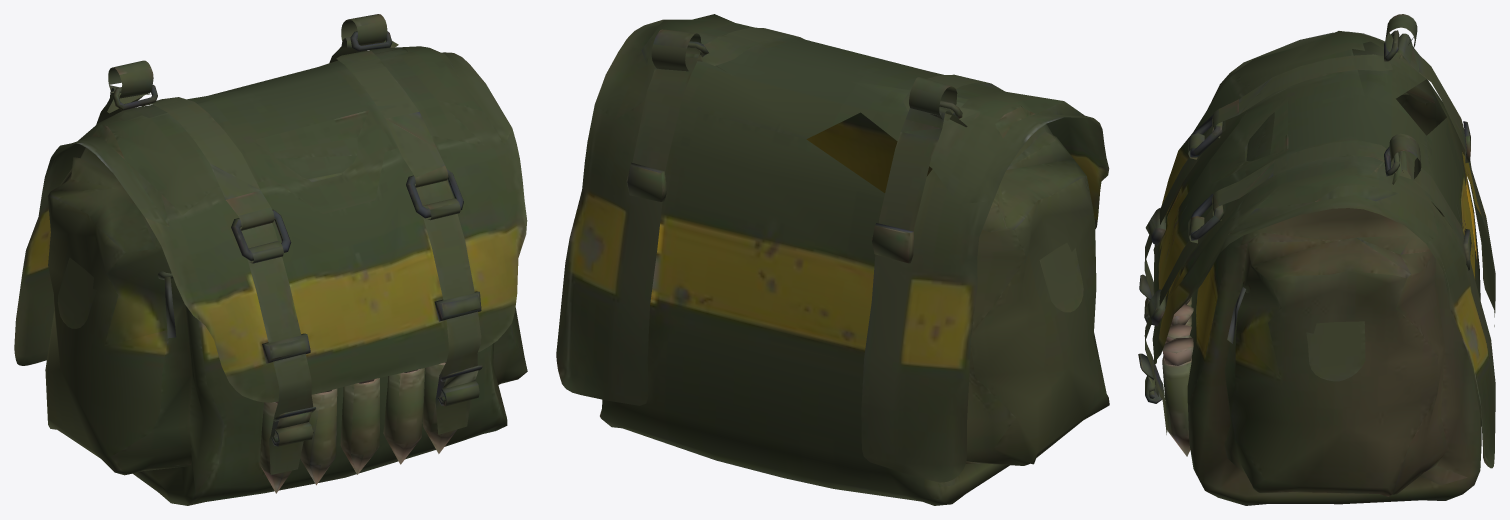
File: s_ammopack.glb
The picture shows the model from 3 angles, left to right: view 1: azimuth 30°, elevation 25°; view 2: azimuth 150°, elevation 25°; view 3: azimuth 270°, elevation 25°; orthographic projection. The views are drawn at different scales.
Bounding box in the file's own units: 0.9521 × 0.79 × 0.7143.
Materials: 1 (1 with a texture image).
